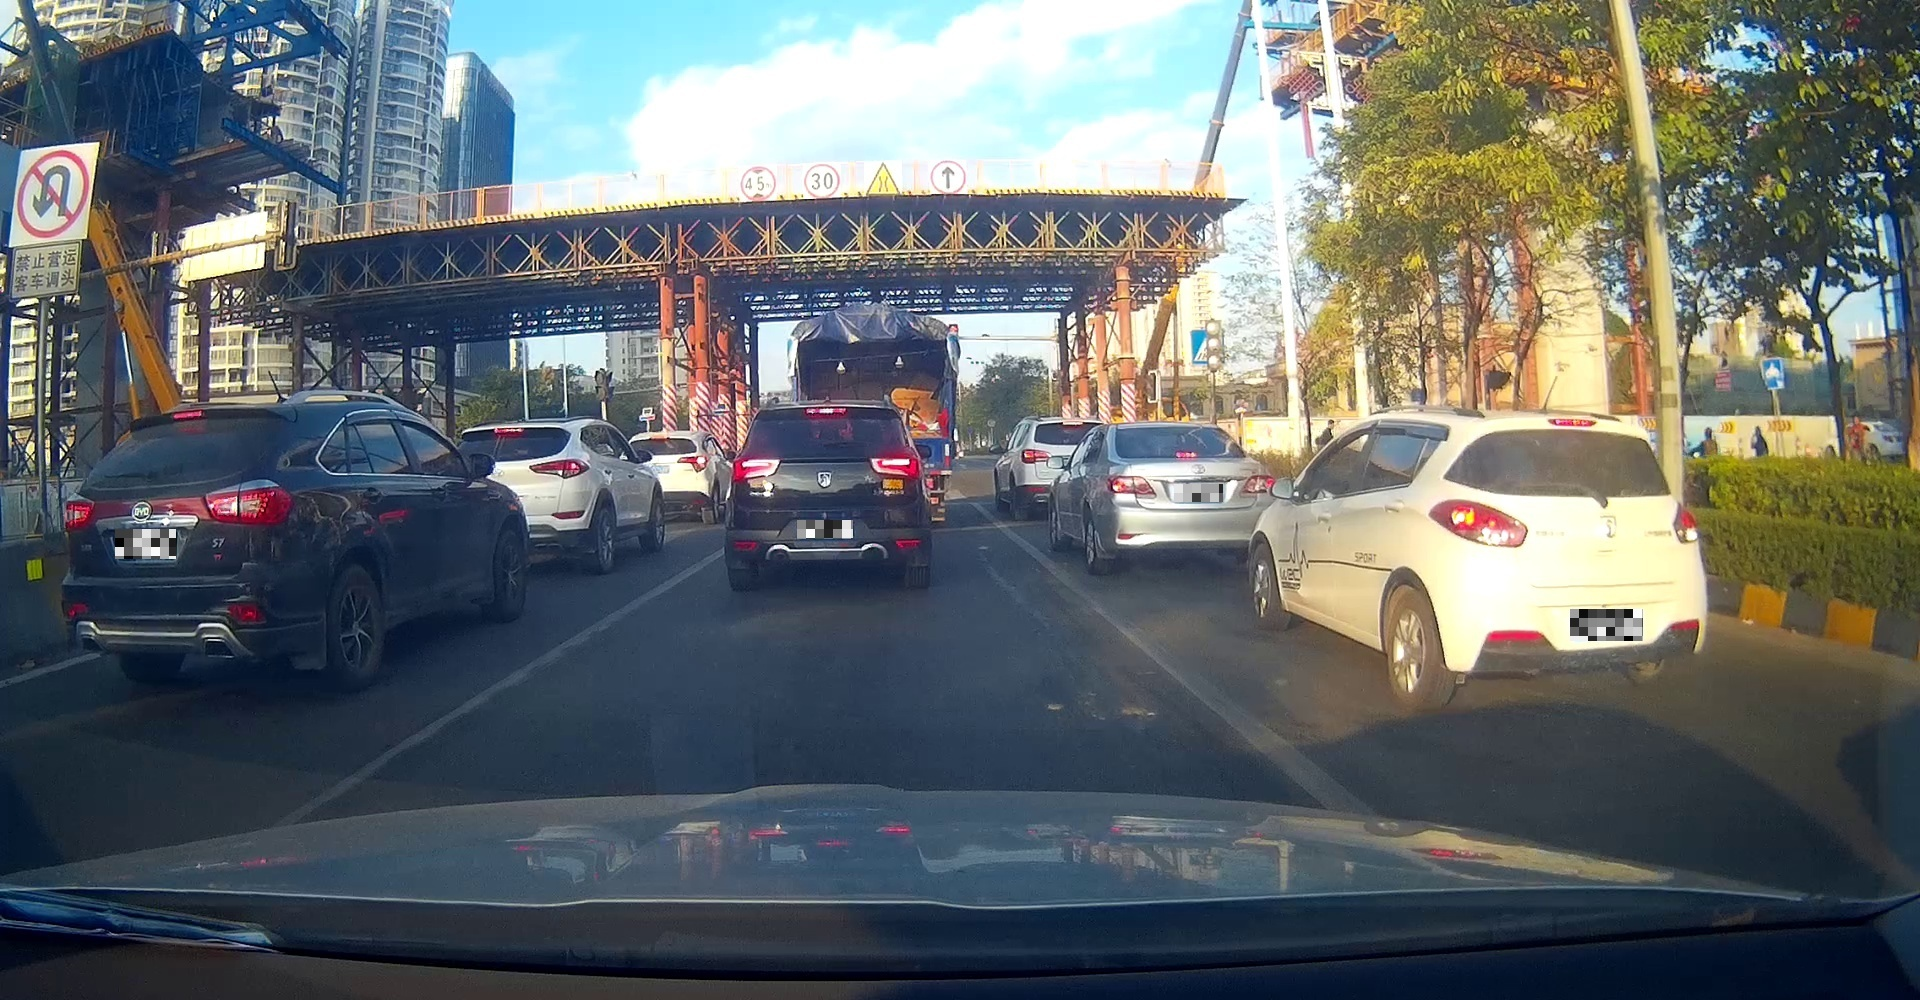L_light: (1427, 497, 1529, 548), (730, 456, 781, 482), (61, 492, 95, 530), (1106, 475, 1156, 495)
R_light: (204, 478, 295, 525), (869, 453, 921, 478), (1672, 500, 1700, 544), (1241, 475, 1275, 492)
T_light: (1548, 418, 1597, 428), (171, 409, 204, 420), (804, 407, 847, 415), (1175, 451, 1197, 457)
day-brake: (1425, 409, 1708, 711), (58, 402, 301, 688), (723, 400, 932, 590), (1102, 421, 1277, 575)
plate_1: (116, 529, 177, 558)
plate_2: (797, 520, 853, 539)
plate_3: (1175, 484, 1223, 503)
plate_4: (1570, 609, 1643, 641)
